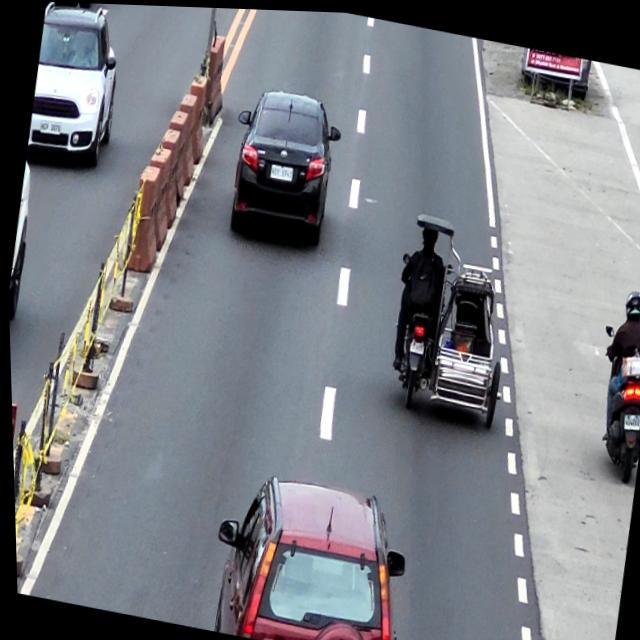Car: (199, 464, 417, 640), (219, 80, 348, 248), (21, 1, 130, 175)
License-Plate: (38, 119, 61, 136), (269, 163, 292, 179), (620, 409, 639, 427), (408, 337, 423, 352)
Motorcycle: (580, 315, 640, 479)
Tricycle: (377, 206, 525, 427)
